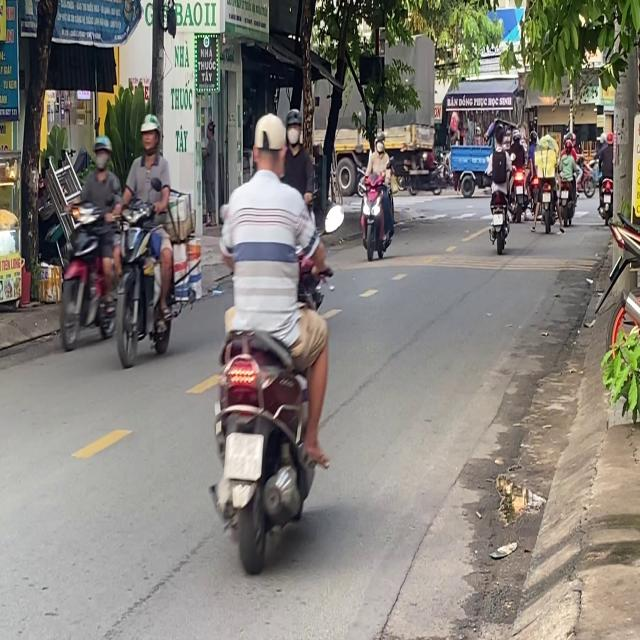helmet: (139, 112, 161, 156), (284, 107, 304, 148), (92, 134, 111, 171), (374, 130, 385, 150)
licenseplate: (205, 107, 337, 572), (113, 110, 180, 366), (57, 133, 124, 352), (358, 129, 396, 261)
motorcyclist: (250, 112, 288, 176)
nohelmet: (223, 433, 262, 478)
